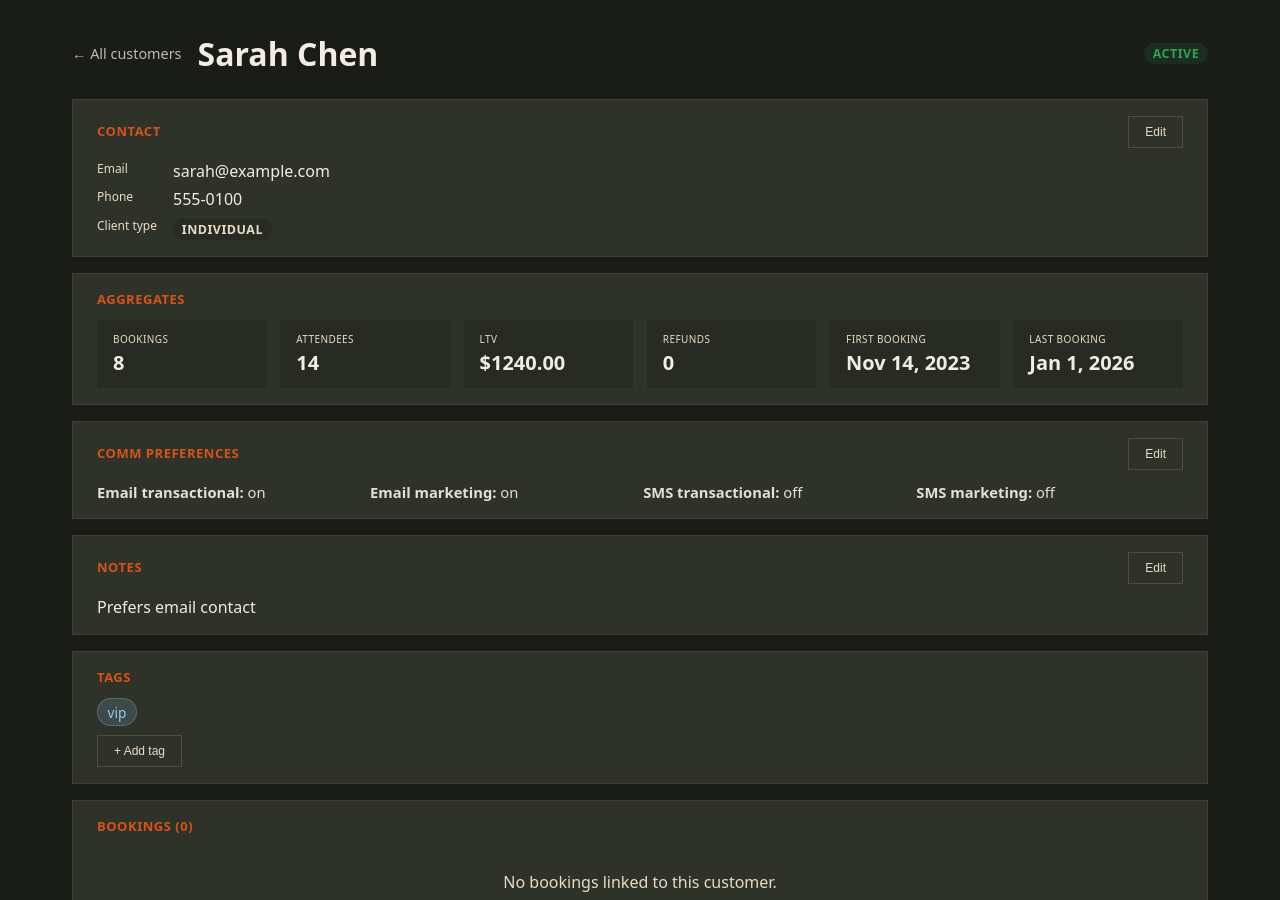
AdminCustomerDetail — consent ceremony › opting OUT asks for nothing extra
The image size is (1280, 900).
Expected: the heading "Comm preferences" is shown, [97, 444, 239, 462]
What coordinates should you click on to do the following:
click the button with aria-label "Edit comm preferences"
I would click on:
 (1156, 454)
Its box is [1128, 438, 1183, 470].
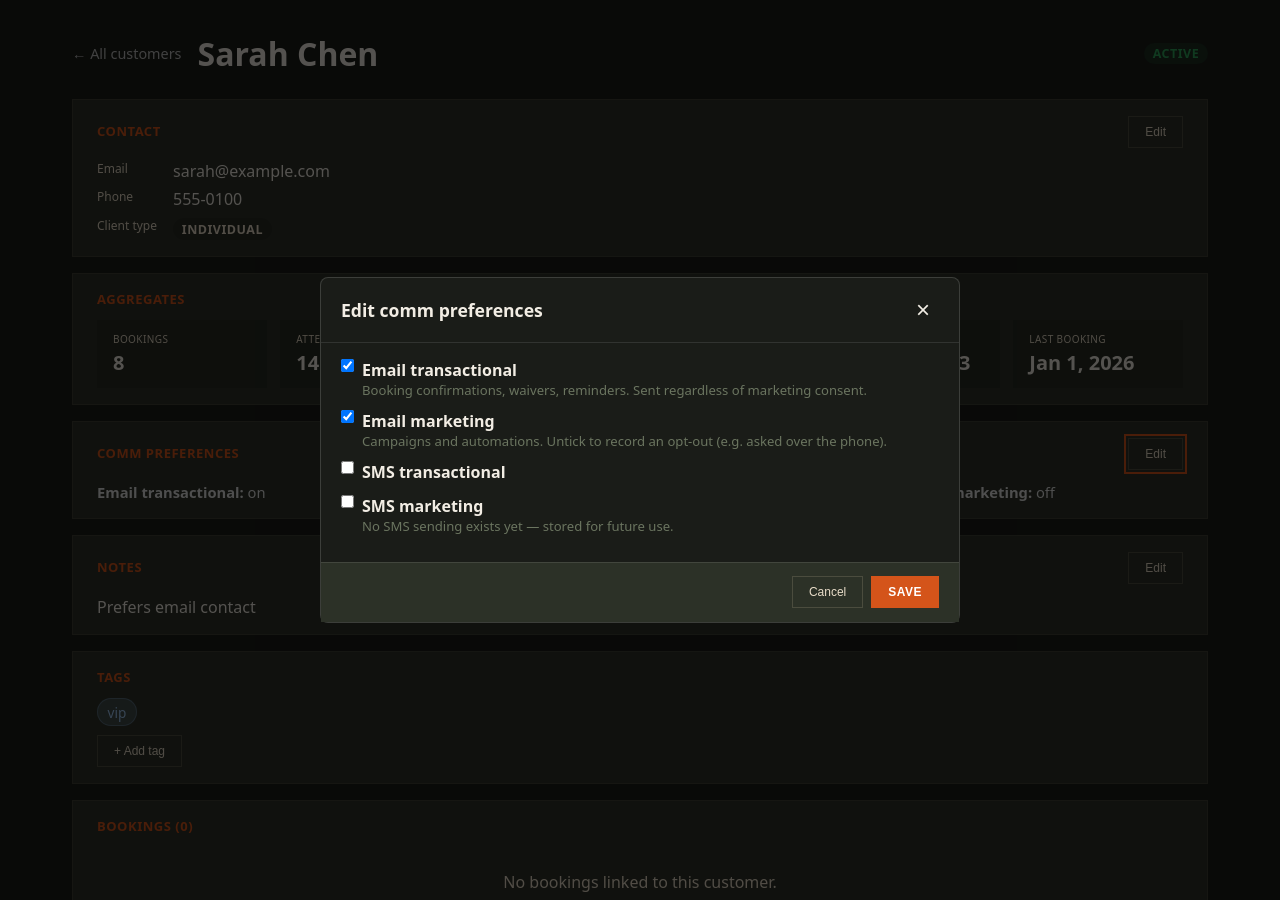
Expected: the heading "Edit comm preferences" is shown, [341, 298, 543, 322]
What coordinates should you click on to do the following:
click the checkbox labelled "Email marketing"
I would click on:
 (348, 417)
Its box is [341, 410, 354, 423].
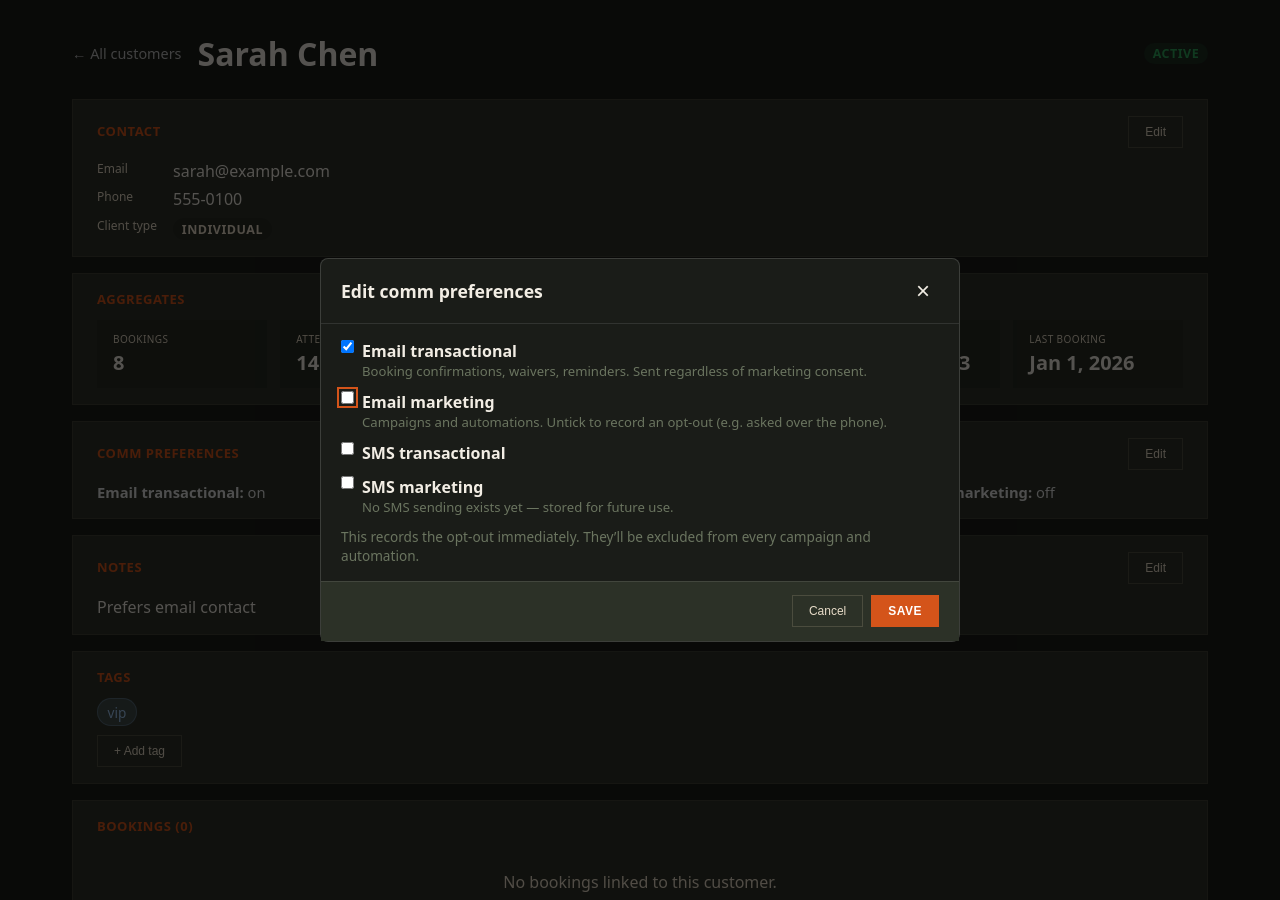
Expected: the text "records the opt-out immediately" is shown, [341, 527, 871, 565]
